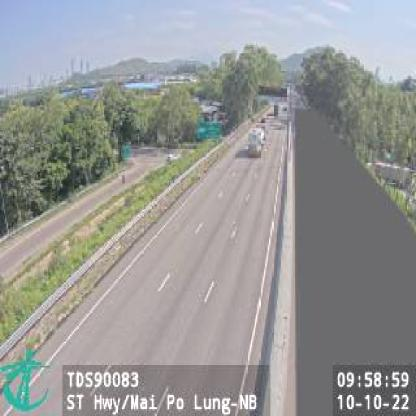Truck: (246, 126, 263, 156)
